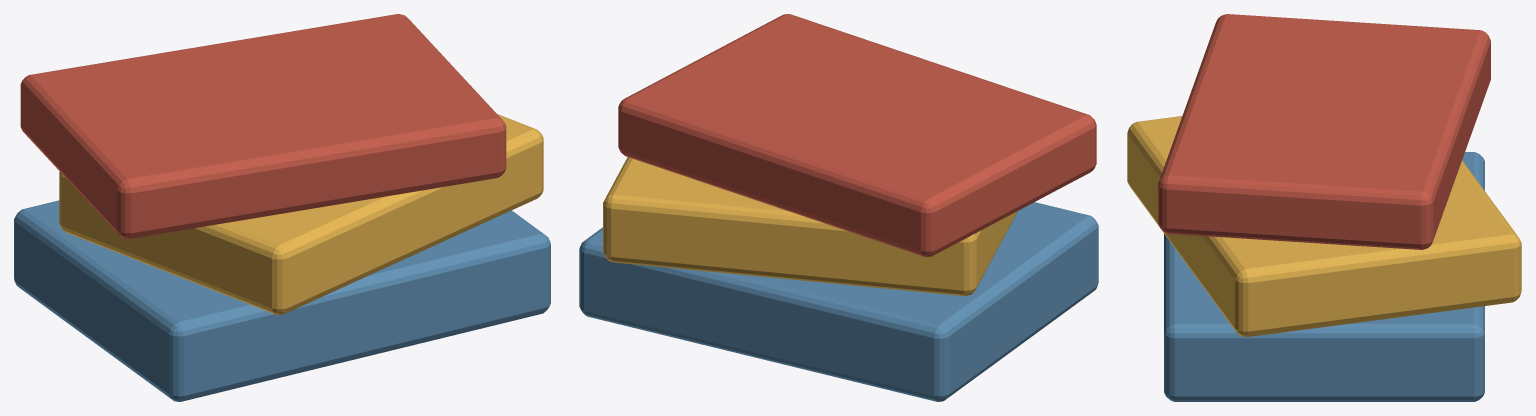
The model's file is keepsake_book.glb.
3 views of the same model, side by side, from view 1: azimuth 30°, elevation 25°; view 2: azimuth 150°, elevation 25°; view 3: azimuth 270°, elevation 25° (orthographic). The views are drawn at different scales.
Visible parts, largest first — view 1: book-3, book-1, book-2; view 2: book-3, book-1, book-2; view 3: book-3, book-2, book-1.
Part boxes in pixels (left/top/right/bottom): book-3: left=20, top=14, right=506, bottom=238; book-1: left=14, top=200, right=550, bottom=401; book-2: left=59, top=114, right=543, bottom=314; book-3: left=618, top=14, right=1096, bottom=257; book-1: left=579, top=202, right=1098, bottom=401; book-2: left=603, top=157, right=1017, bottom=296; book-3: left=1158, top=14, right=1490, bottom=249; book-2: left=1127, top=116, right=1521, bottom=337; book-1: left=1164, top=152, right=1484, bottom=401.
Bounding box in the file's own units: 0.2281 × 0.105 × 0.184.
